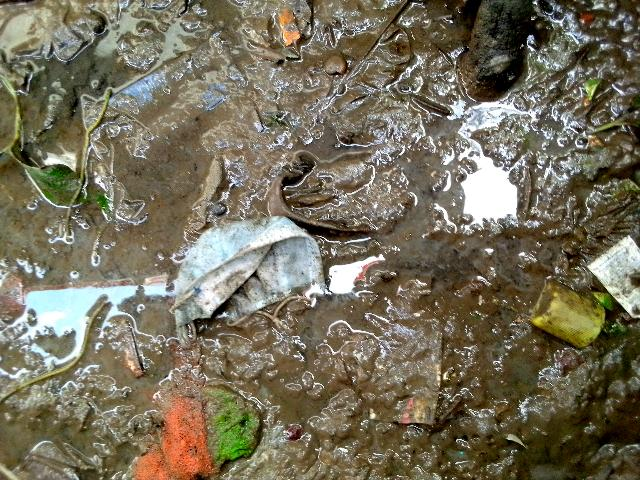mask: (193, 219, 314, 327)
